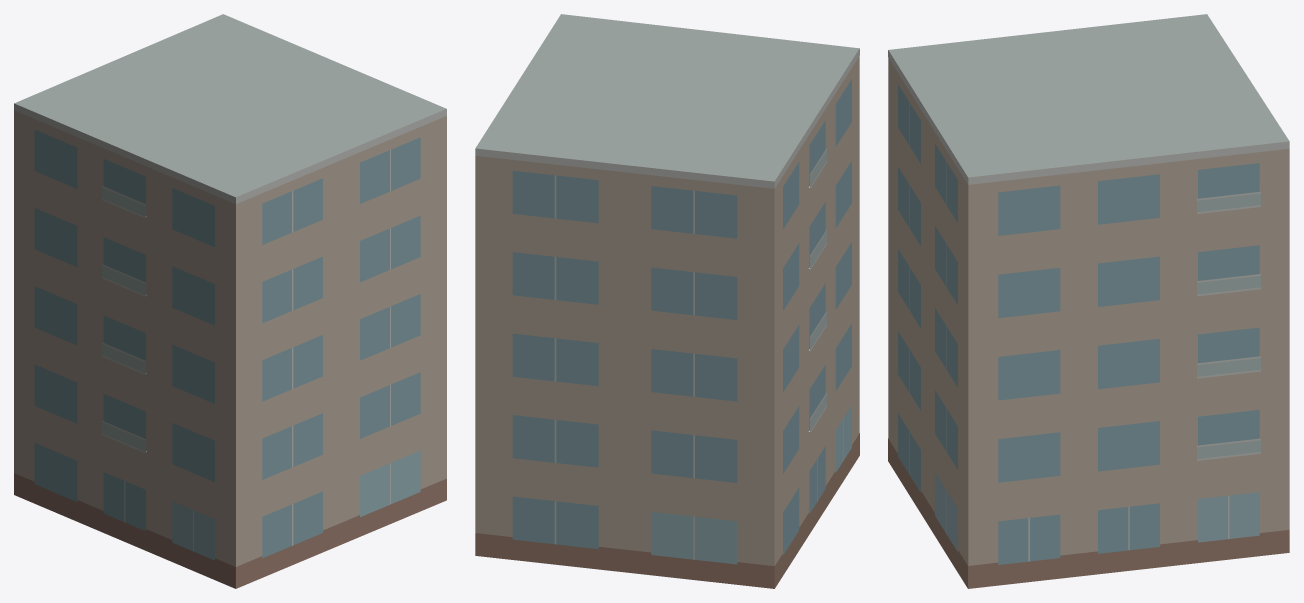
File: survey-upis-32939149.glb
3 renders of one model, left to right at view 1: azimuth 30°, elevation 25°; view 2: azimuth 150°, elevation 25°; view 3: azimuth 270°, elevation 25°, orthographic. The views are drawn at different scales.
Parts seen in each view (by area): view 1: survey-upis-32939149.tmp; view 2: survey-upis-32939149.tmp; view 3: survey-upis-32939149.tmp.
Part boxes in pixels (<box>): survey-upis-32939149.tmp: <box>14,14,446,588</box>; survey-upis-32939149.tmp: <box>475,14,859,588</box>; survey-upis-32939149.tmp: <box>888,14,1289,588</box>.
Size of the model in its own units: 11.78 by 13.8 by 12.22.
